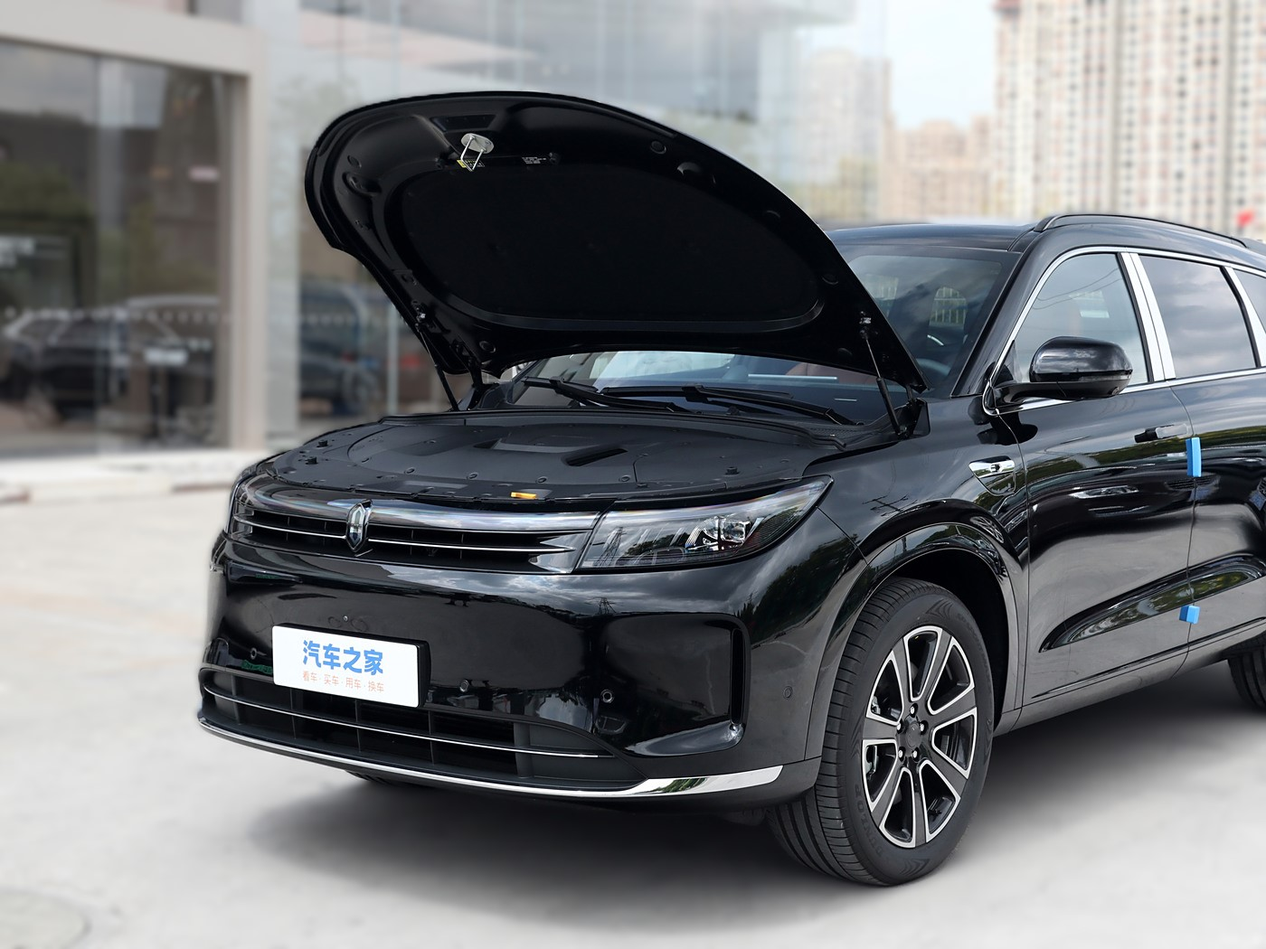AITO: (346, 504, 364, 548)
